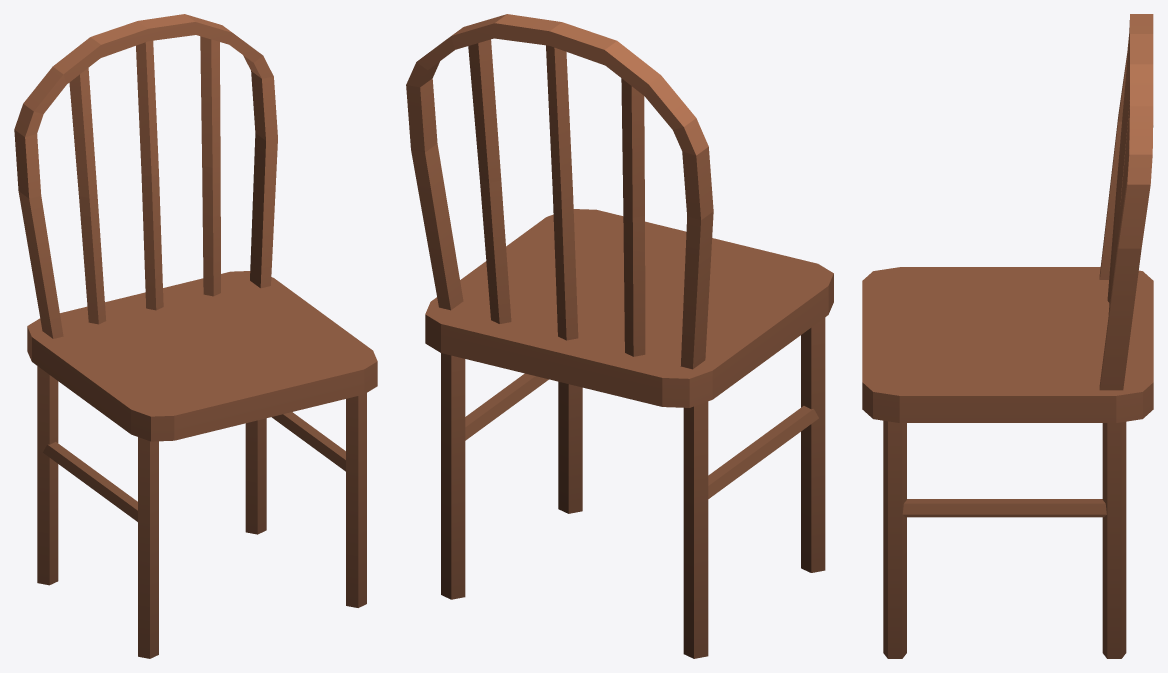
File: chair.glb
3 views of the same model, side by side, from view 1: azimuth 30°, elevation 25°; view 2: azimuth 150°, elevation 25°; view 3: azimuth 270°, elevation 25° (orthographic). The views are drawn at different scales.
Visible parts, largest first — view 1: chair; view 2: chair; view 3: chair.
Boxes of the visible parts, box(x1,y1,x2,y2) form: chair: box(14, 14, 377, 658); chair: box(406, 14, 833, 658); chair: box(862, 14, 1153, 658).
Bounding box in the file's own units: 0.5901 × 1.18 × 0.5489.
Materials: 1 (1 with a texture image).
